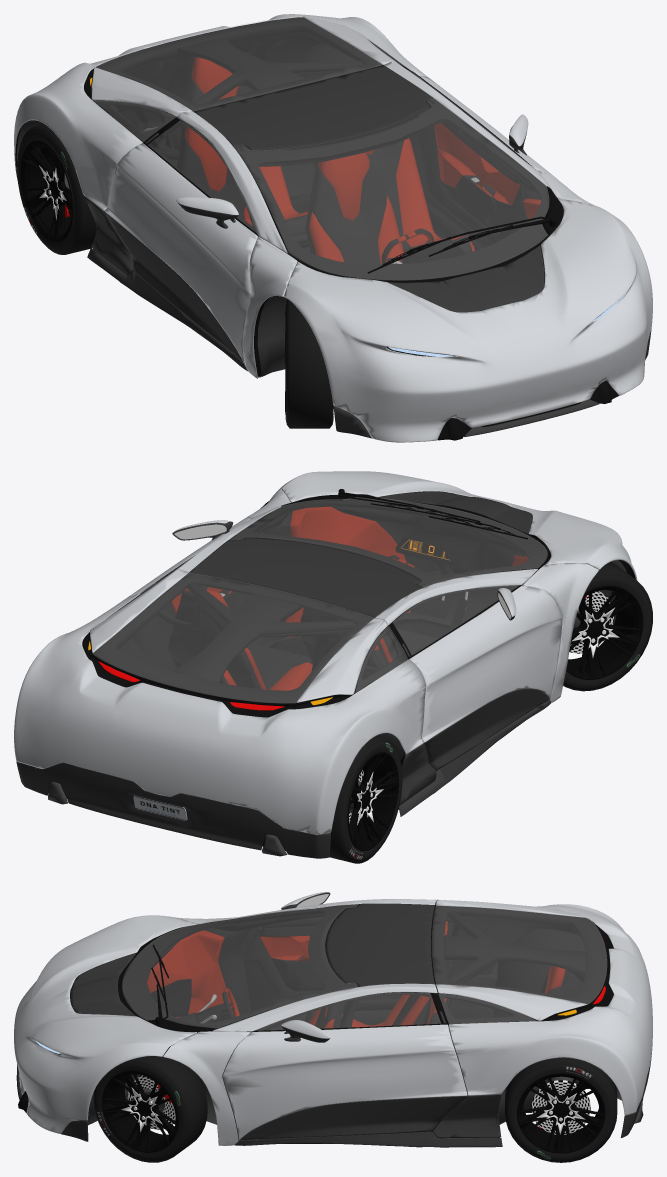
File: concept-demo.glb
3 views of the same model, one above another, from view 1: azimuth 30°, elevation 25°; view 2: azimuth 150°, elevation 25°; view 3: azimuth 270°, elevation 25° (orthographic). The views are drawn at different scales.
Parts seen in each view (by area): view 1: BodyHood, BodyWindshield, BodyRearwindow, BodyDoorRColor1, BodyRearPanelsColor1, BodyRoofPanel, BodyWindshieldGasket, InteriorSeatsColor1, InteriorSeatsColor2, BodyPillars, InteriorPillar, InteriorRearHatch (+21 smaller); view 2: BodyRearPanelsColor1, BodyRearwindow, BodyWindshield, BodyDoorRColor1, BodyPanelsColor2, BodyRoofPanel, BodyHood, InteriorRearHatch, BodyPillars, InteriorPillar, BodyWindshieldGasket, InteriorDashMid (+22 smaller); view 3: BodyRearPanelsColor1, BodyWindshield, BodyDoorLColor1, BodyHood, BodyRearwindow, BodyRoofPanel, BodyPillars, BodyWindshieldGasket, BodyDoorLColor2, BodyPanelsColor2, WheelFrontL, InteriorRearHatch (+25 smaller).
Part boxes in pixels (x1,y1,x2,y2): BodyHood: (283, 198, 652, 442); BodyWindshield: (234, 98, 549, 280); BodyRearwindow: (95, 16, 382, 110); BodyDoorRColor1: (104, 143, 257, 363); BodyRearPanelsColor1: (14, 14, 428, 210); BodyRoofPanel: (193, 65, 432, 150); BodyWindshieldGasket: (234, 99, 563, 282); InteriorSeatsColor1: (185, 57, 475, 264); InteriorSeatsColor2: (180, 78, 472, 264); BodyPillars: (176, 61, 598, 378); InteriorPillar: (158, 37, 434, 168); InteriorRearHatch: (93, 17, 383, 117); BodyRearPanelsColor1: (14, 569, 425, 834); BodyRearwindow: (92, 573, 373, 703); BodyWindshield: (229, 497, 547, 587); BodyDoorRColor1: (409, 585, 562, 742); BodyPanelsColor2: (16, 700, 550, 858); BodyRoofPanel: (189, 537, 422, 617); BodyHood: (279, 471, 637, 580); InteriorRearHatch: (93, 573, 386, 707); BodyPillars: (175, 489, 599, 702); InteriorPillar: (174, 574, 417, 682); BodyWindshieldGasket: (230, 497, 550, 587); InteriorDashMid: (331, 503, 528, 622); BodyRearPanelsColor1: (436, 899, 652, 1115); BodyWindshield: (122, 904, 357, 1028); BodyDoorLColor1: (222, 1024, 467, 1139); BodyHood: (14, 915, 196, 1133); BodyRearwindow: (432, 905, 606, 1003); BodyRoofPanel: (326, 903, 434, 986); BodyPillars: (163, 899, 437, 1145); BodyWindshieldGasket: (118, 905, 357, 1032); BodyDoorLColor2: (240, 1096, 467, 1140); BodyPanelsColor2: (16, 1045, 652, 1147); WheelFrontL: (93, 1054, 207, 1162); InteriorRearHatch: (431, 905, 606, 1021).
Size of the model in its own units: 2.54 by 1.15 by 4.36.
Materials: 23 (4 with a texture image).
